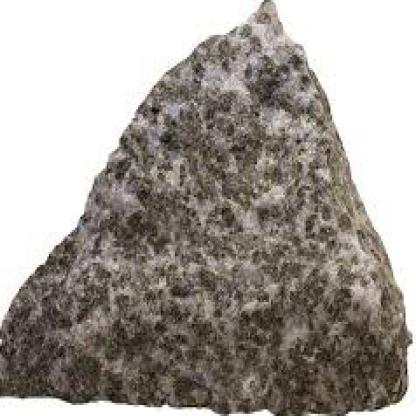Igneous_Diorite: (1, 0, 406, 414)
